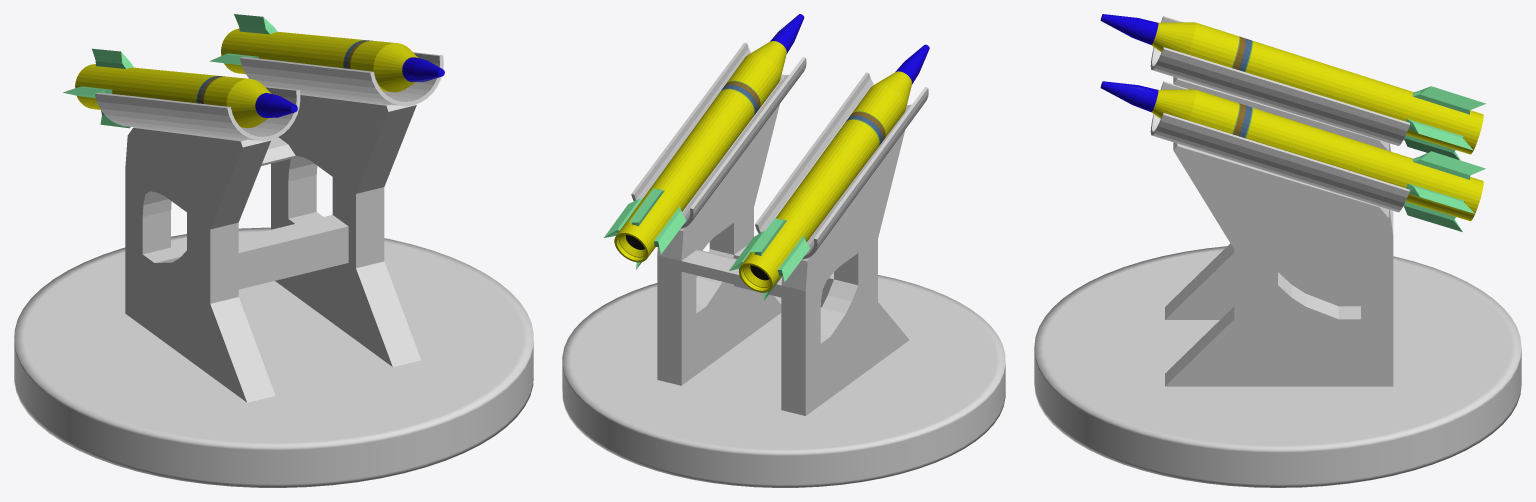
File: MissleLauncher.fbx
The picture shows the model from 3 angles, left to right: view 1: azimuth 30°, elevation 25°; view 2: azimuth 150°, elevation 25°; view 3: azimuth 270°, elevation 25°; orthographic projection. The views are drawn at different scales.
Visible parts, largest first — view 1: ML_Rotator, Ramp, Missle.001, Platform; view 2: ML_Rotator, Ramp, Missle.001, Platform; view 3: ML_Rotator, Ramp, Missle.001, Platform.
Part boxes in pixels (x1,y1,x2,y2): ML_Rotator: (14, 227, 533, 487); Ramp: (125, 94, 420, 402); Missle.001: (63, 14, 444, 128); Platform: (95, 52, 443, 141); ML_Rotator: (562, 275, 1005, 487); Ramp: (657, 104, 909, 415); Missle.001: (604, 14, 929, 300); Platform: (631, 43, 928, 259); ML_Rotator: (1034, 246, 1521, 487); Ramp: (1165, 77, 1393, 386); Missle.001: (1100, 14, 1485, 231); Platform: (1150, 16, 1409, 212).
Size of the model in its own units: 124 by 124 by 94.4.
